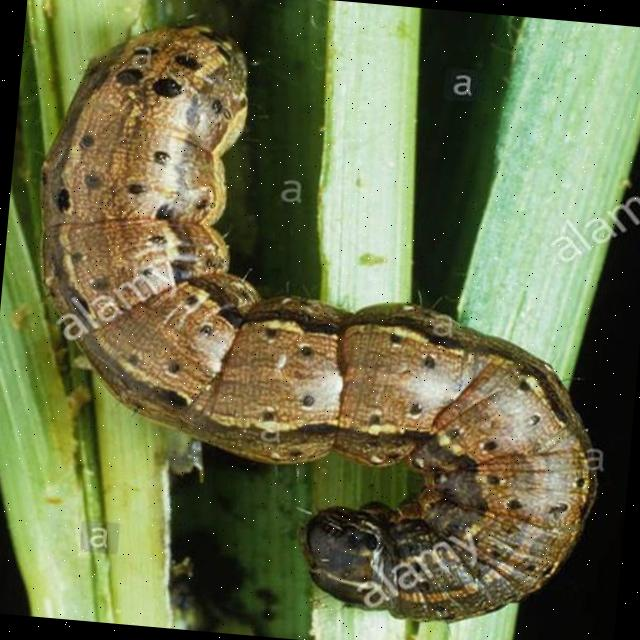worm: (4, 5, 640, 640)
